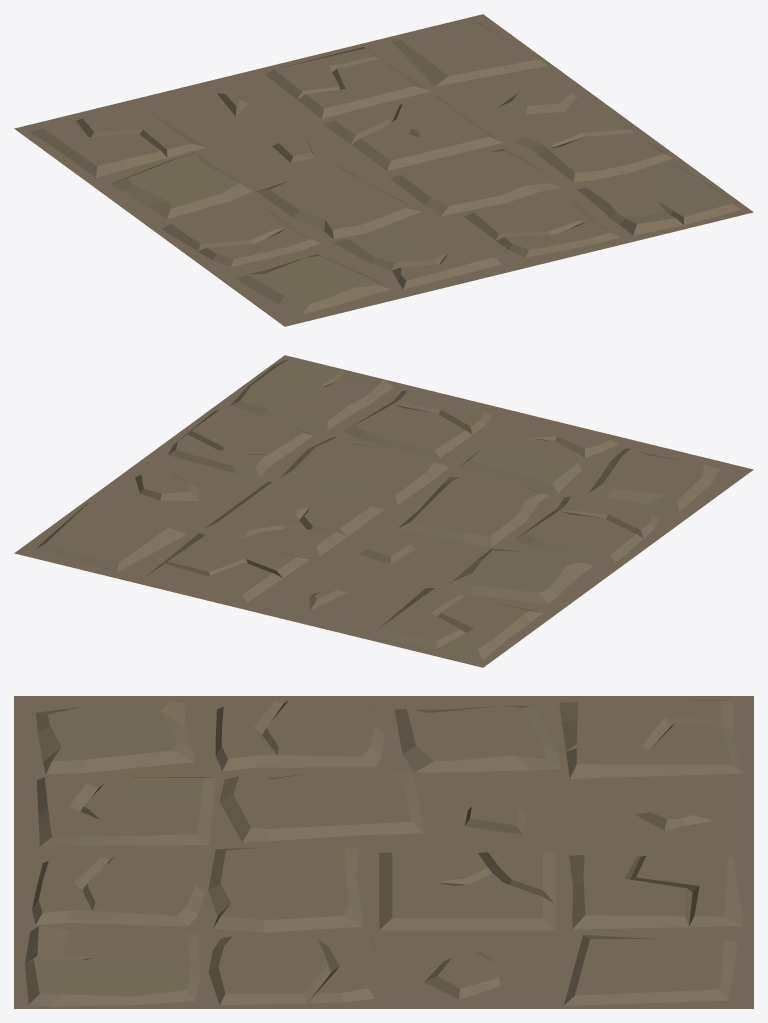
Rendered from Floor_Tile_Small_1.fbx.
3 renders of one model, top to bottom at view 1: azimuth 30°, elevation 25°; view 2: azimuth 150°, elevation 25°; view 3: azimuth 270°, elevation 25°, orthographic. The views are drawn at different scales.
Parts seen in each view (by area): view 1: Floor_Tile_Small_1; view 2: Floor_Tile_Small_1; view 3: Floor_Tile_Small_1.
Part boxes in pixels (x1,y1,x2,y2): Floor_Tile_Small_1: (14,14,753,326); Floor_Tile_Small_1: (14,355,753,667); Floor_Tile_Small_1: (14,696,753,1008).
Size of the model in its own units: 1 by 0.0164 by 1.
